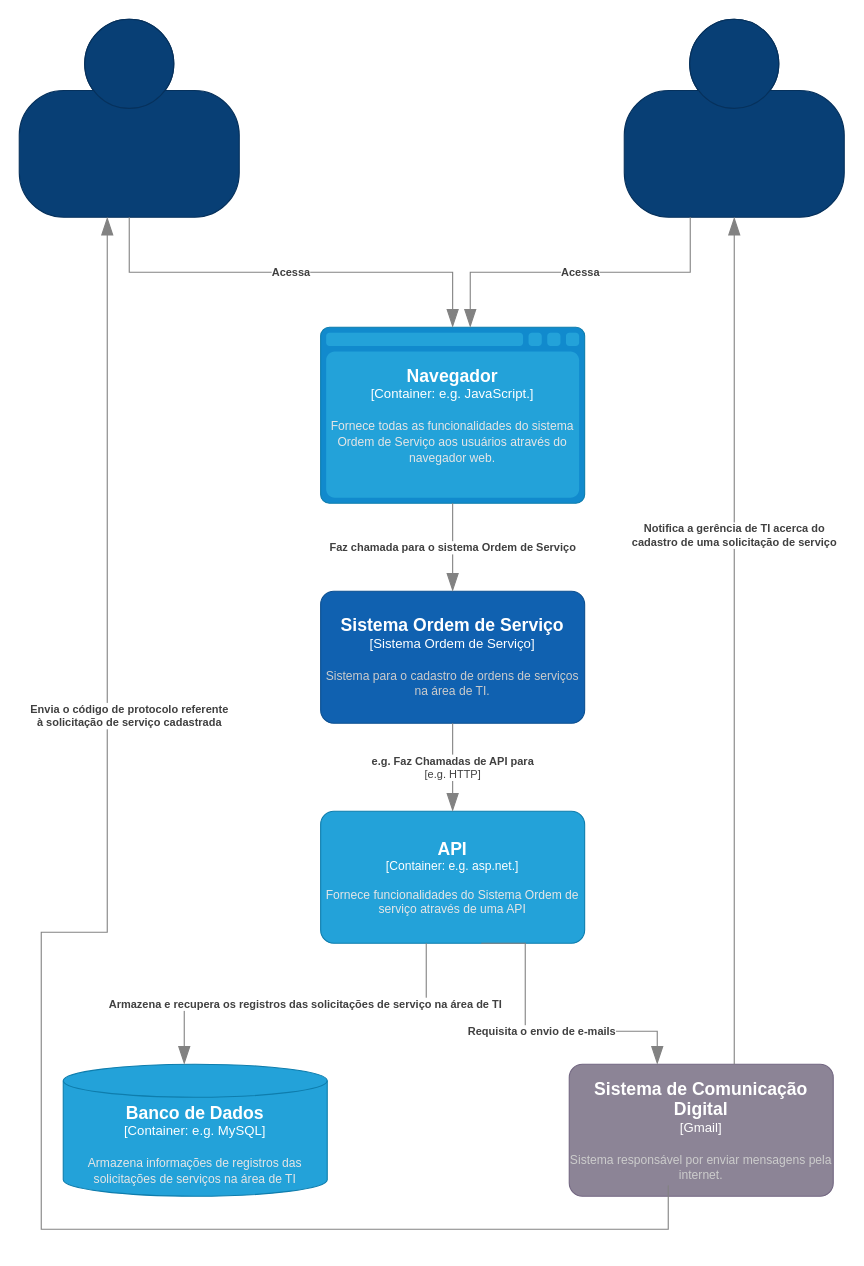
The diagram is 864 pixels wide and 1266 high, and some of its shapes have lost their labels. Each missing label, with the centre of its shape:
"Gerência [Person] Gerente de TI e Subgerente de TI" belongs at point (733, 117).
"Servidor [Person] Técnico Administrativo em Educação e Docente" belongs at point (128, 117).
